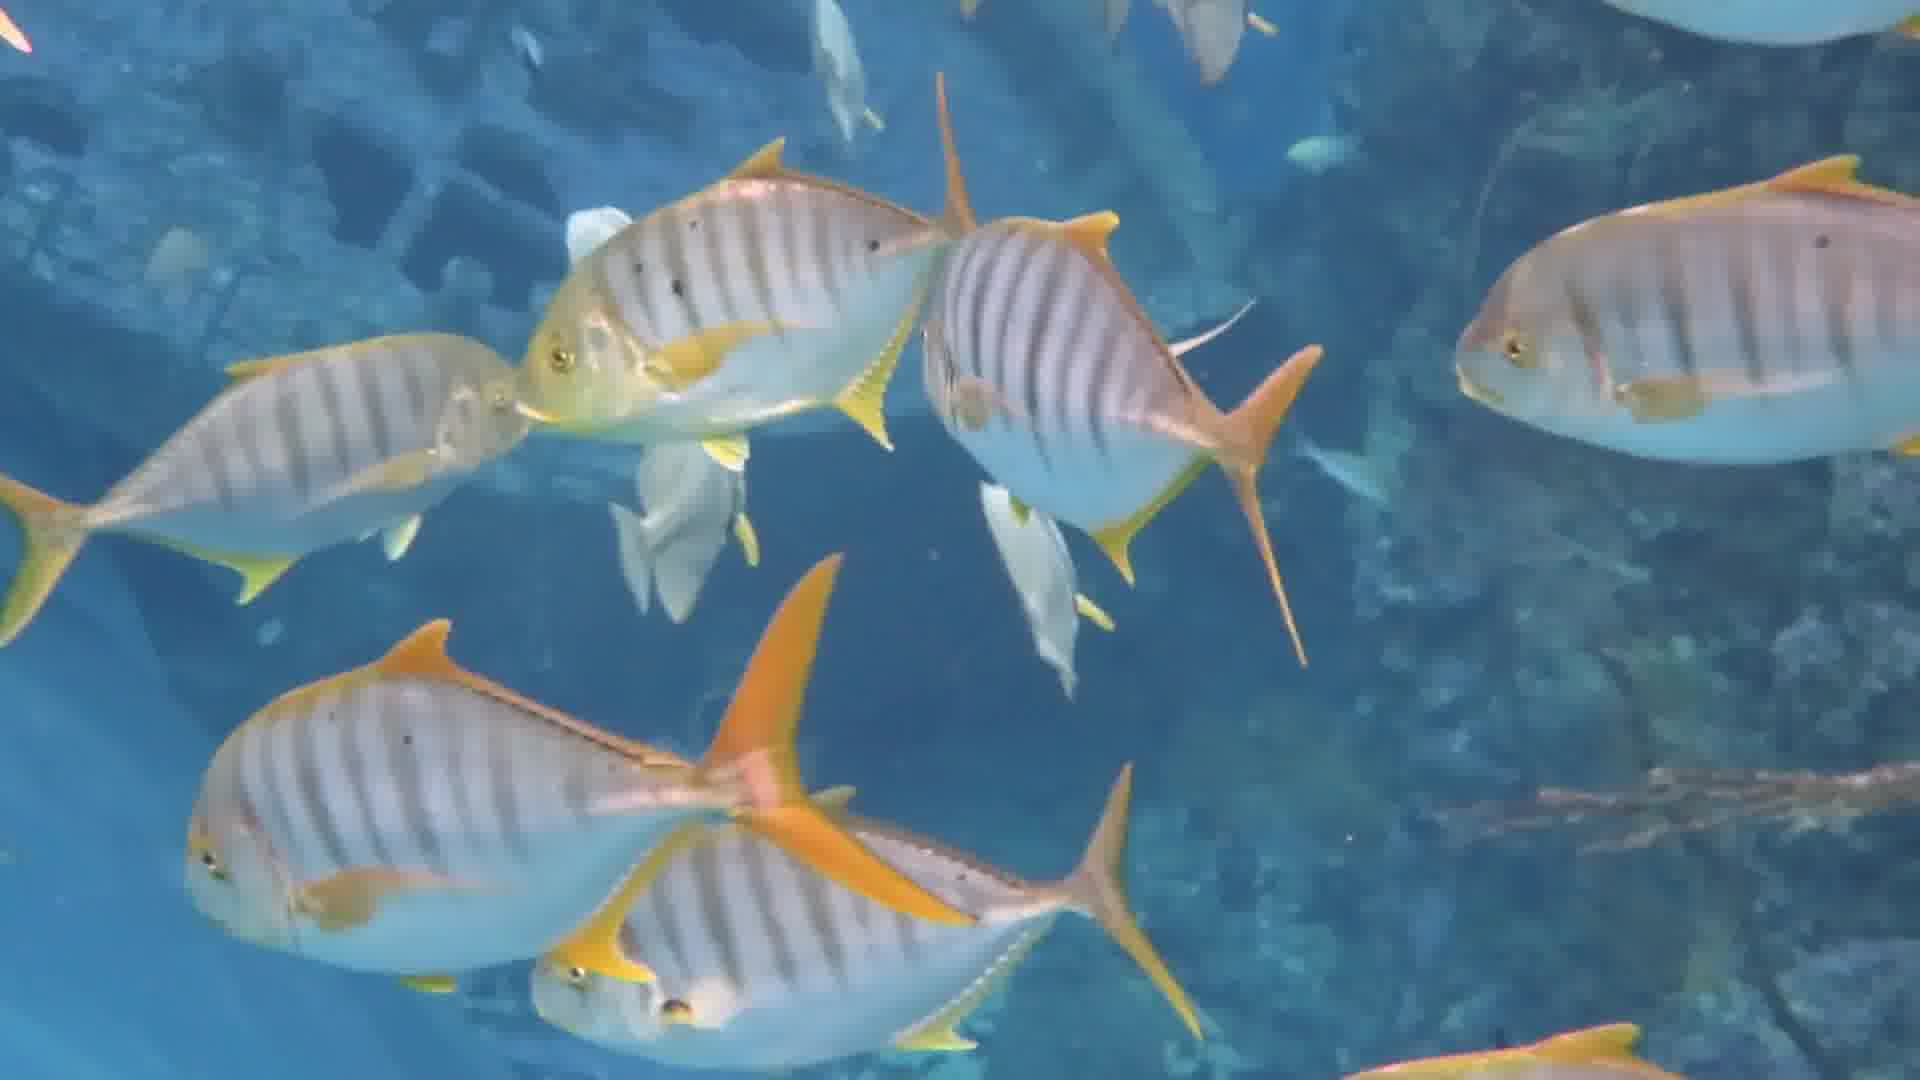Gnathanodon speciosus: (167, 636, 905, 980), (20, 299, 533, 640), (513, 804, 1154, 1068), (487, 127, 945, 483), (1407, 156, 1920, 452), (916, 202, 1246, 593)
